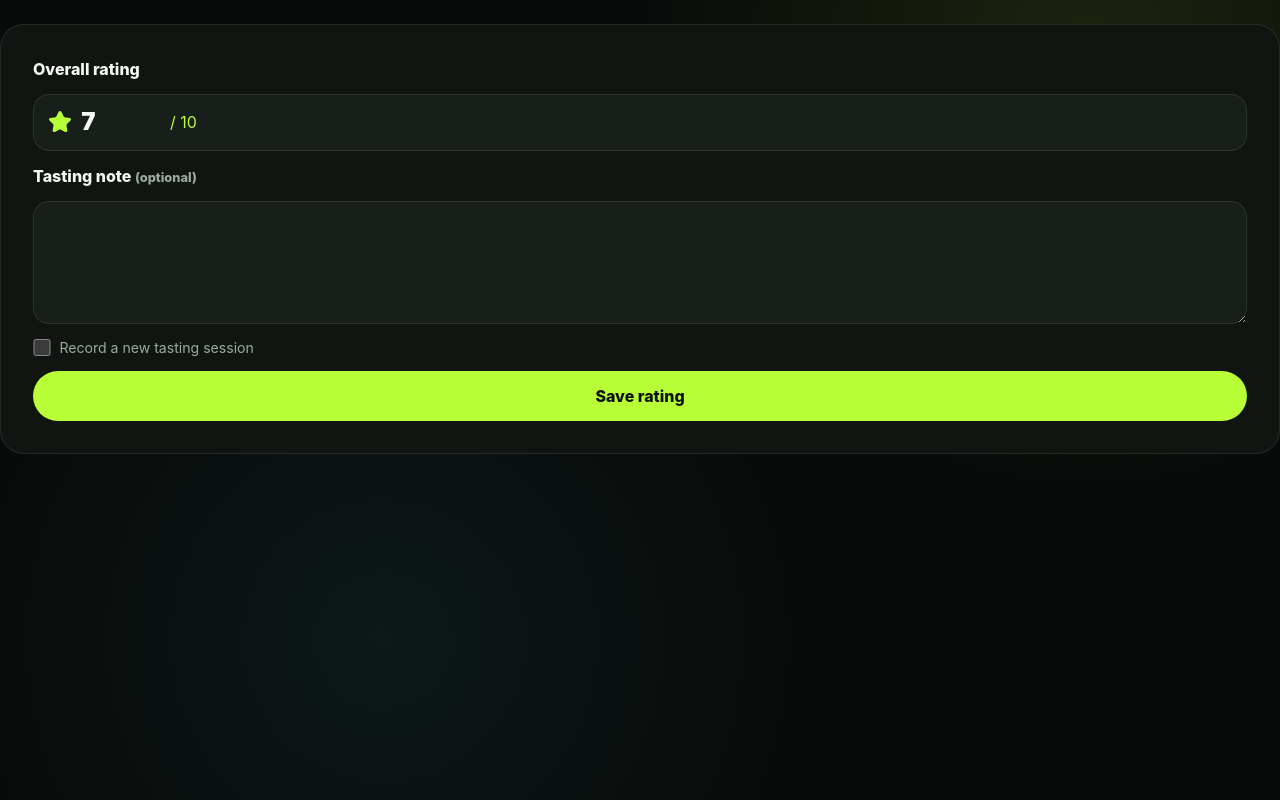
Test: RatingForm › submits half-point ratings and reports failed writes without clearing input
Replace the text in the number field labelled "Overall rating" with "8.5": (121, 122) [81,104,161,140]
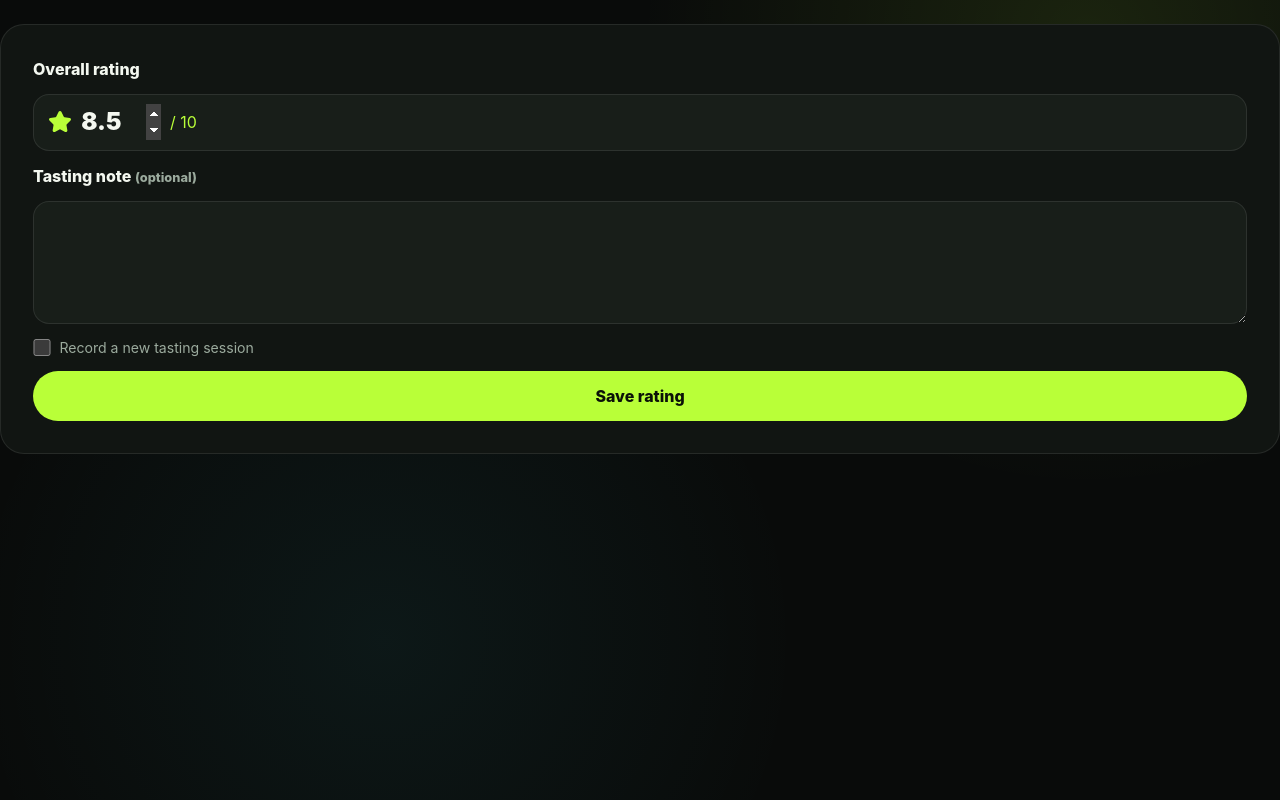
Click the button "Save rating": (640, 396) [33,371,1247,421]
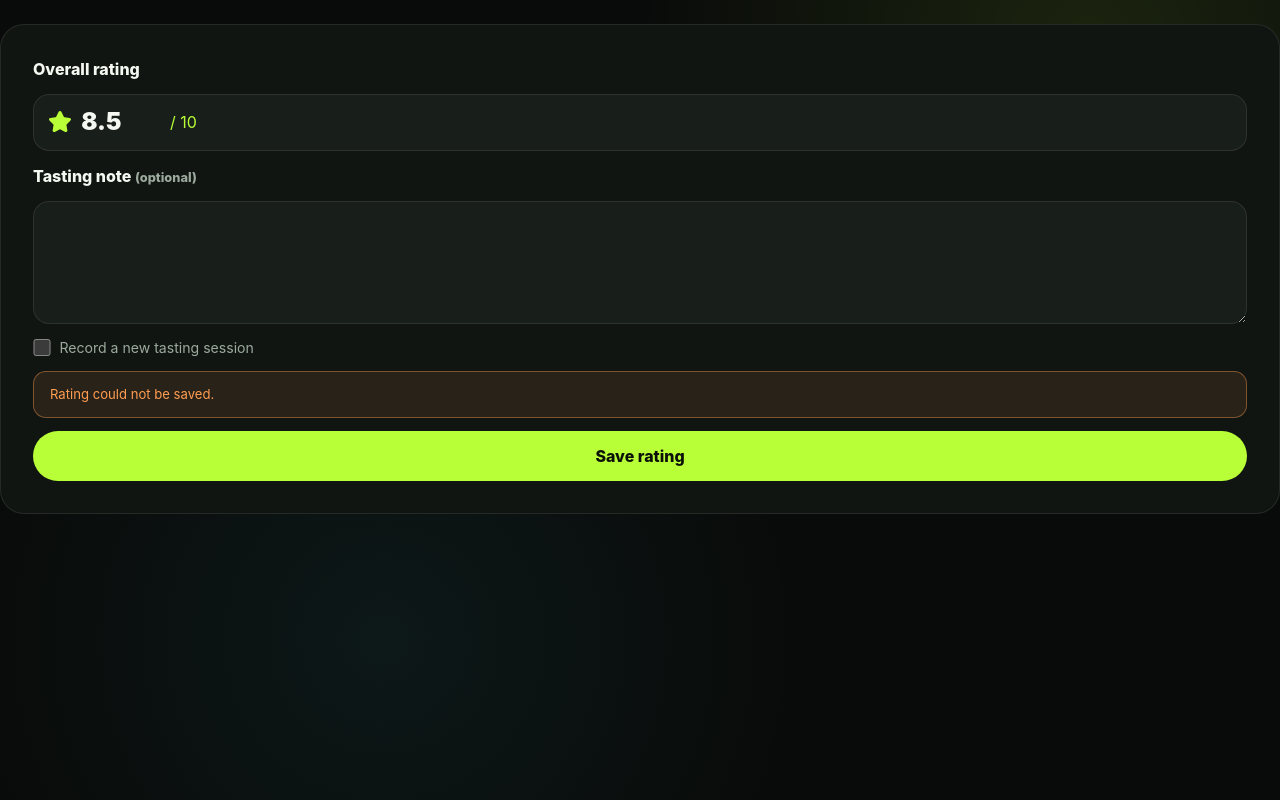
Expected: the message reads "Rating could not be saved.", [50,386,214,402]
